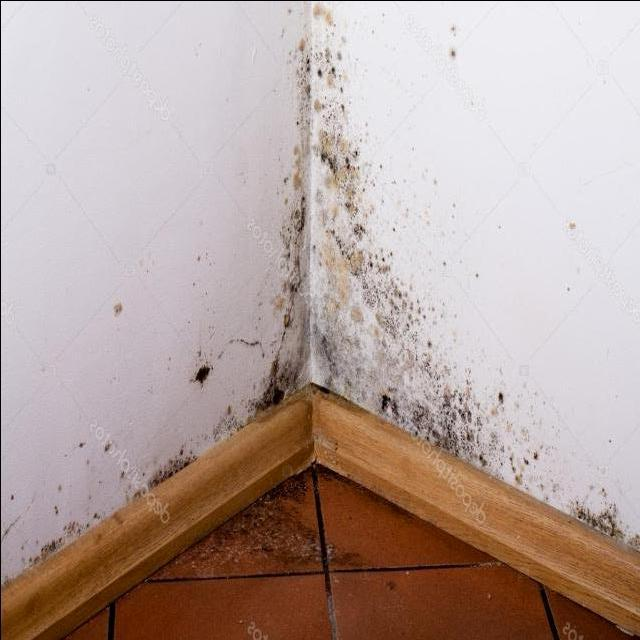Crack: (308, 459, 339, 638)
leak: (1, 380, 638, 639)
